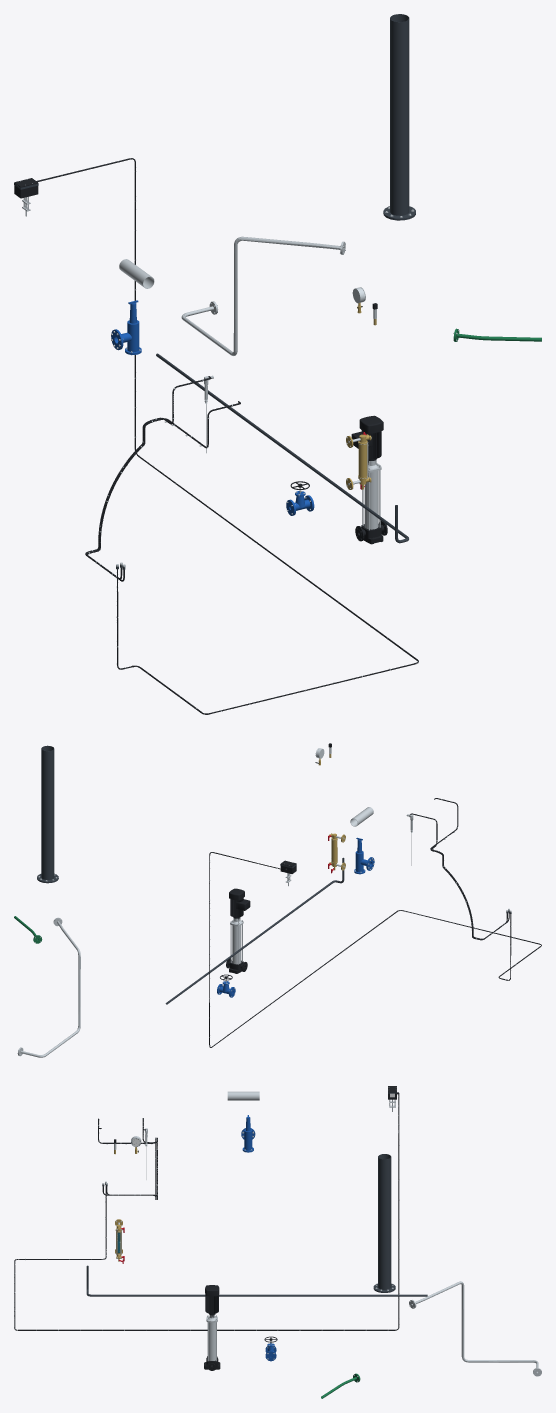
File: s4000-7-bNldh3cc.glb
The picture shows the model from 3 angles, top to bottom: view 1: azimuth 30°, elevation 25°; view 2: azimuth 150°, elevation 25°; view 3: azimuth 270°, elevation 25°; orthographic projection. The views are drawn at different scales.
Visible parts, largest first — view 1: bdv_vent / dark, mod_direct_drive_cable / black, trap_gap_to_bdv / steel, tds_common / dark, safety_1 / blue, pump_1 CAD solid 15; view 2: bdv_vent / dark, mod_direct_drive_cable / black, trap_gap_to_bdv / steel, tds_common / dark, pump_1 CAD solid 15, safety_1 / blue; view 3: bdv_vent / dark, mod_direct_drive_cable / black, tds_common / dark, trap_gap_to_bdv / steel, pump_1 CAD solid 15.
Part boxes in pixels (bbox=[...]): bdv_vent / dark: bbox=[383, 14, 415, 220]; mod_direct_drive_cable / black: bbox=[36, 158, 418, 714]; trap_gap_to_bdv / steel: bbox=[181, 236, 345, 355]; tds_common / dark: bbox=[156, 353, 408, 543]; safety_1 / blue: bbox=[111, 300, 141, 354]; pump_1 CAD solid 15: bbox=[351, 415, 383, 459]; bdv_vent / dark: bbox=[37, 745, 58, 883]; mod_direct_drive_cable / black: bbox=[209, 852, 541, 1047]; trap_gap_to_bdv / steel: bbox=[17, 917, 80, 1057]; tds_common / dark: bbox=[165, 857, 344, 1004]; pump_1 CAD solid 15: bbox=[229, 888, 250, 917]; safety_1 / blue: bbox=[354, 837, 374, 874]; bdv_vent / dark: bbox=[373, 1154, 395, 1292]; mod_direct_drive_cable / black: bbox=[14, 1093, 399, 1330]; tds_common / dark: bbox=[86, 1265, 427, 1296]; trap_gap_to_bdv / steel: bbox=[409, 1281, 541, 1376]; pump_1 CAD solid 15: bbox=[205, 1285, 219, 1314].
Bounding box in the file's own units: 5.83 × 3.69 × 6.74.
